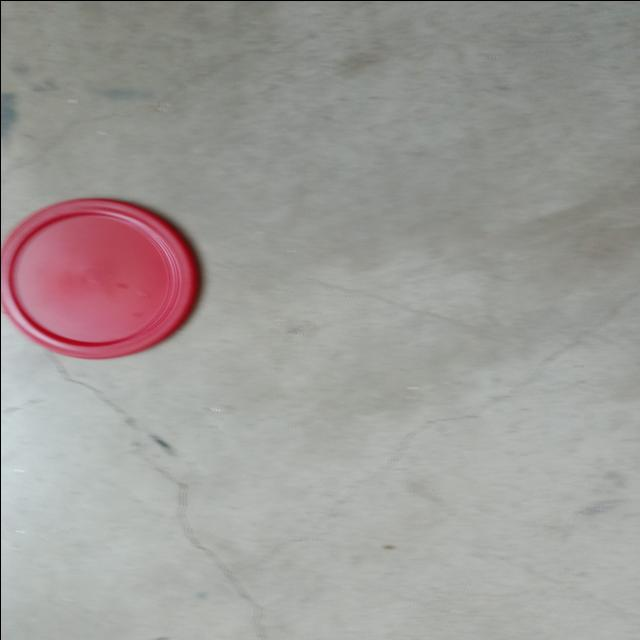chip: (0, 198, 203, 360)
